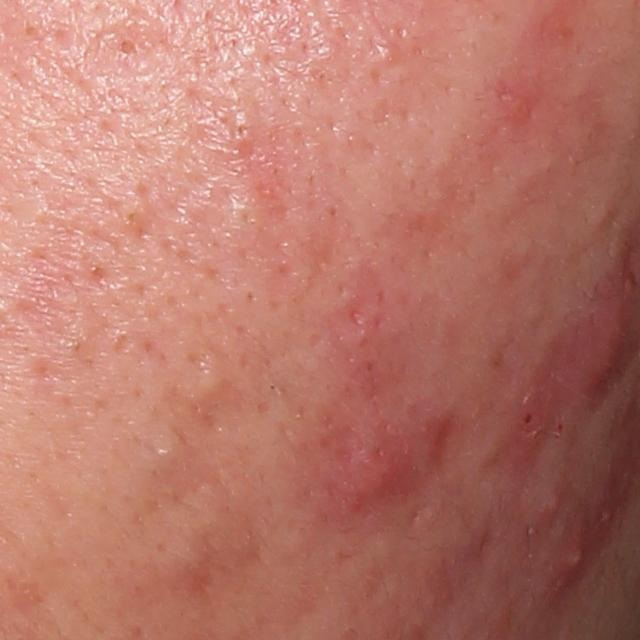comedo: (138, 430, 187, 471), (584, 194, 619, 231), (193, 367, 229, 400), (227, 112, 260, 147)
papule: (315, 388, 443, 533), (544, 508, 604, 617), (485, 67, 550, 137), (524, 477, 576, 534)
